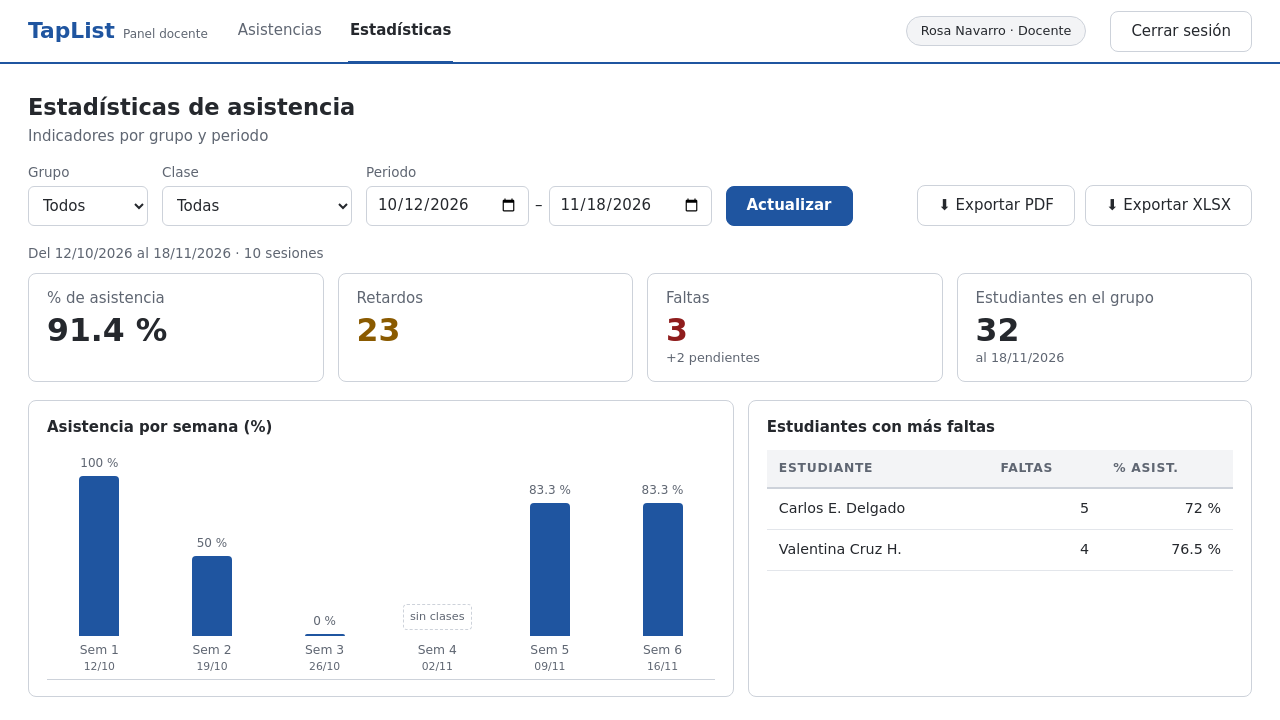
Test: P3 · Estadísticas › periodo inválido (el fin antes que el inicio): avisa y no consulta
This screenshot has width=1280, height=720.
Expected: the heading "Asistencia por semana (%)" is shown, [47, 418, 272, 436]
Step 1. Type "2026-11-01" into the date field named "Inicio del periodo" → (448,206), box [366, 186, 529, 226]
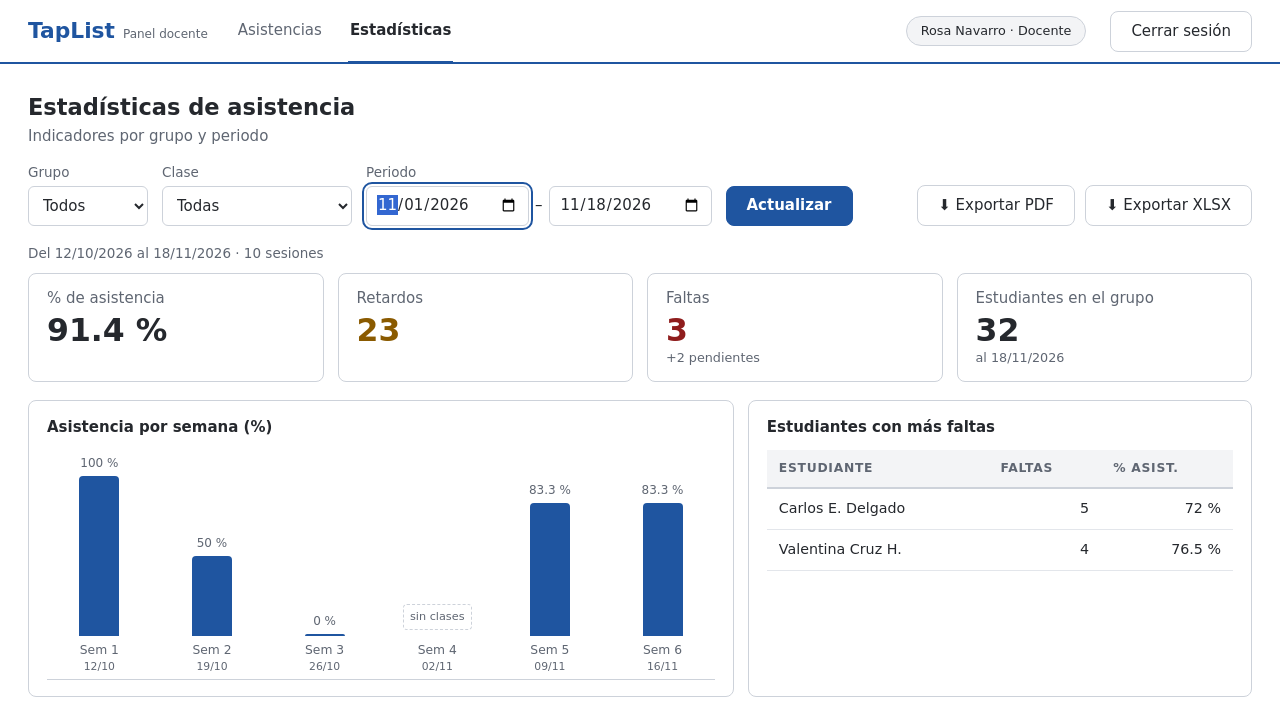
Step 2. Type "2026-10-01" into the date field named "Fin del periodo" → (630,206), box [548, 186, 712, 226]
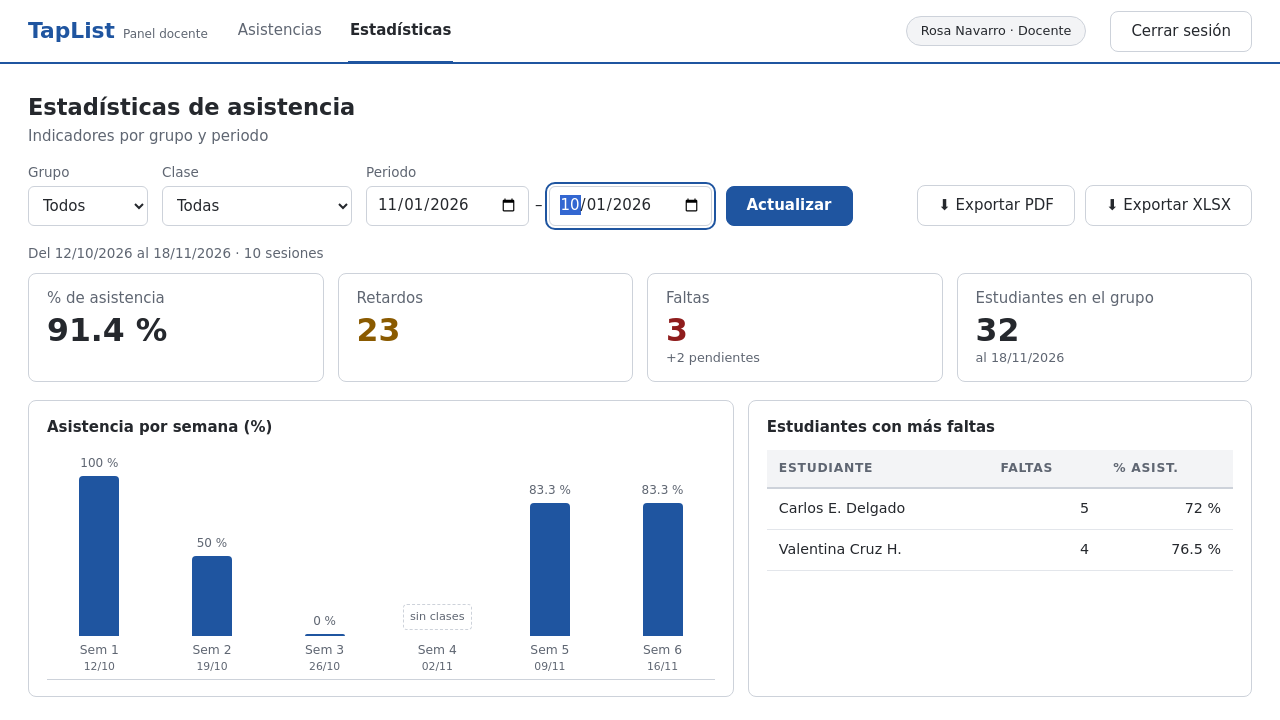
Step 3. Click the button "Actualizar" → (789,206), box [726, 186, 852, 226]
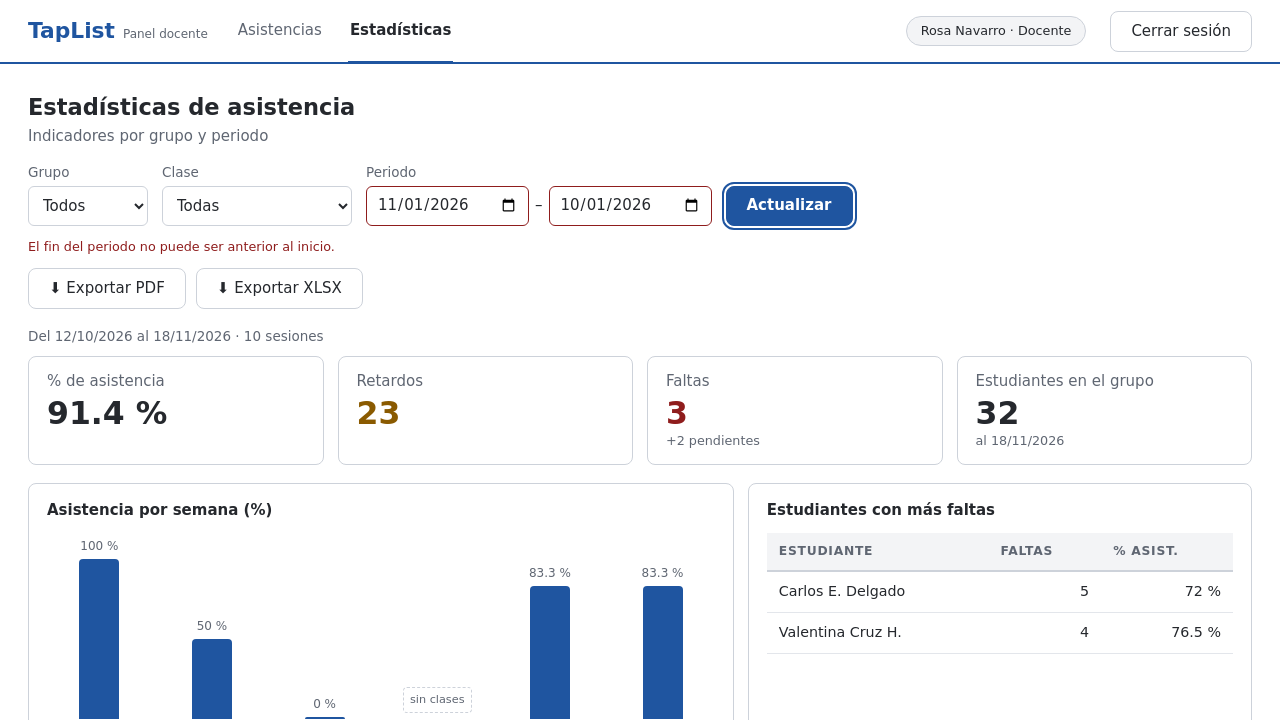
Expected: the text "El fin del periodo no puede ser anterior al inicio." is shown, [28, 239, 335, 254]
